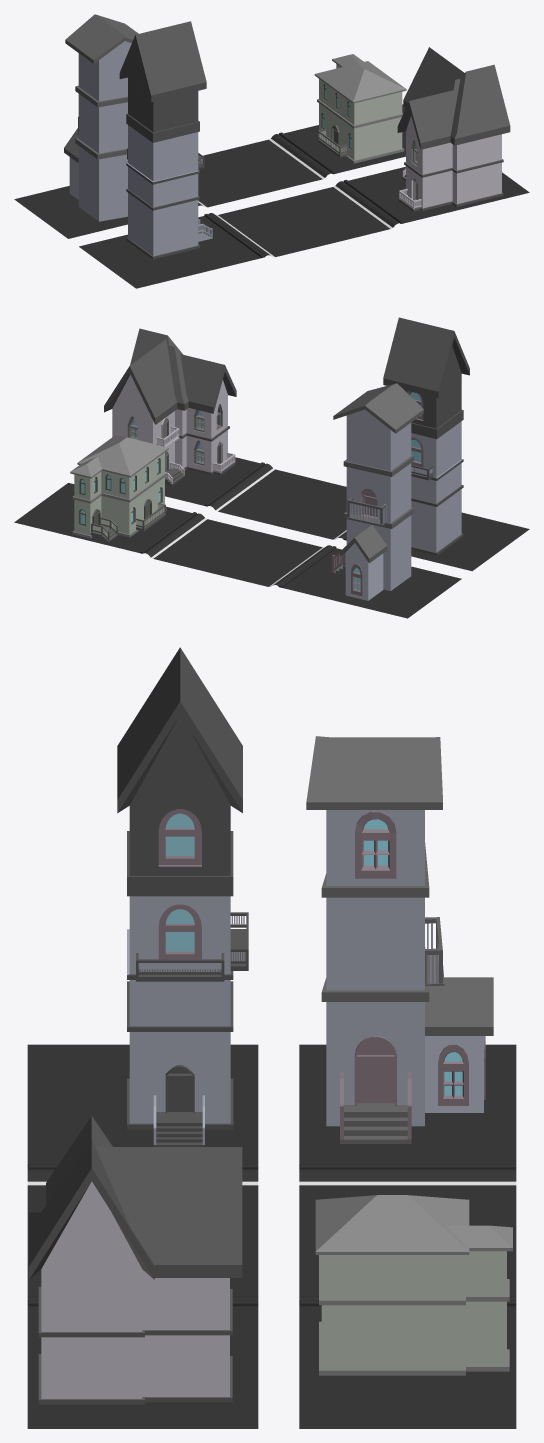
Rendered from drumgolsicase.fbx.
3 views of the same model, one above another, from view 1: azimuth 30°, elevation 25°; view 2: azimuth 150°, elevation 25°; view 3: azimuth 270°, elevation 25° (orthographic). The views are drawn at different scales.
Visible parts, largest first — view 1: building_020, Stradatyle1.004, building_021, Stradatyle1, Cube, building_019, Cube.001; view 2: Stradatyle1, building_020, building_021, Stradatyle1.004, Cube, building_019, Cube.001; view 3: building_021, building_020, Cube, Stradatyle1, building_019, Stradatyle1.004, Cube.001.
Part boxes in pixels (x1,y1,x2,y2): building_020: [119, 21, 212, 259]; Stradatyle1.004: [79, 166, 529, 288]; building_021: [397, 47, 510, 211]; Stradatyle1: [14, 104, 405, 238]; Cube: [65, 14, 138, 221]; building_019: [314, 54, 406, 163]; Cube.001: [64, 128, 78, 199]; Stradatyle1: [14, 483, 461, 618]; building_020: [383, 317, 469, 555]; building_021: [104, 328, 236, 485]; Stradatyle1.004: [165, 457, 529, 571]; Cube: [332, 383, 423, 590]; building_019: [70, 435, 168, 542]; Cube.001: [340, 525, 387, 600]; building_021: [29, 1116, 242, 1404]; building_020: [117, 647, 248, 1146]; Cube: [306, 736, 444, 1143]; Stradatyle1: [299, 1044, 516, 1428]; building_019: [315, 1195, 512, 1375]; Stradatyle1.004: [27, 1044, 258, 1428]; Cube.001: [425, 977, 493, 1112].
Size of the model in its own units: 34.88 by 18.57 by 18.75.
